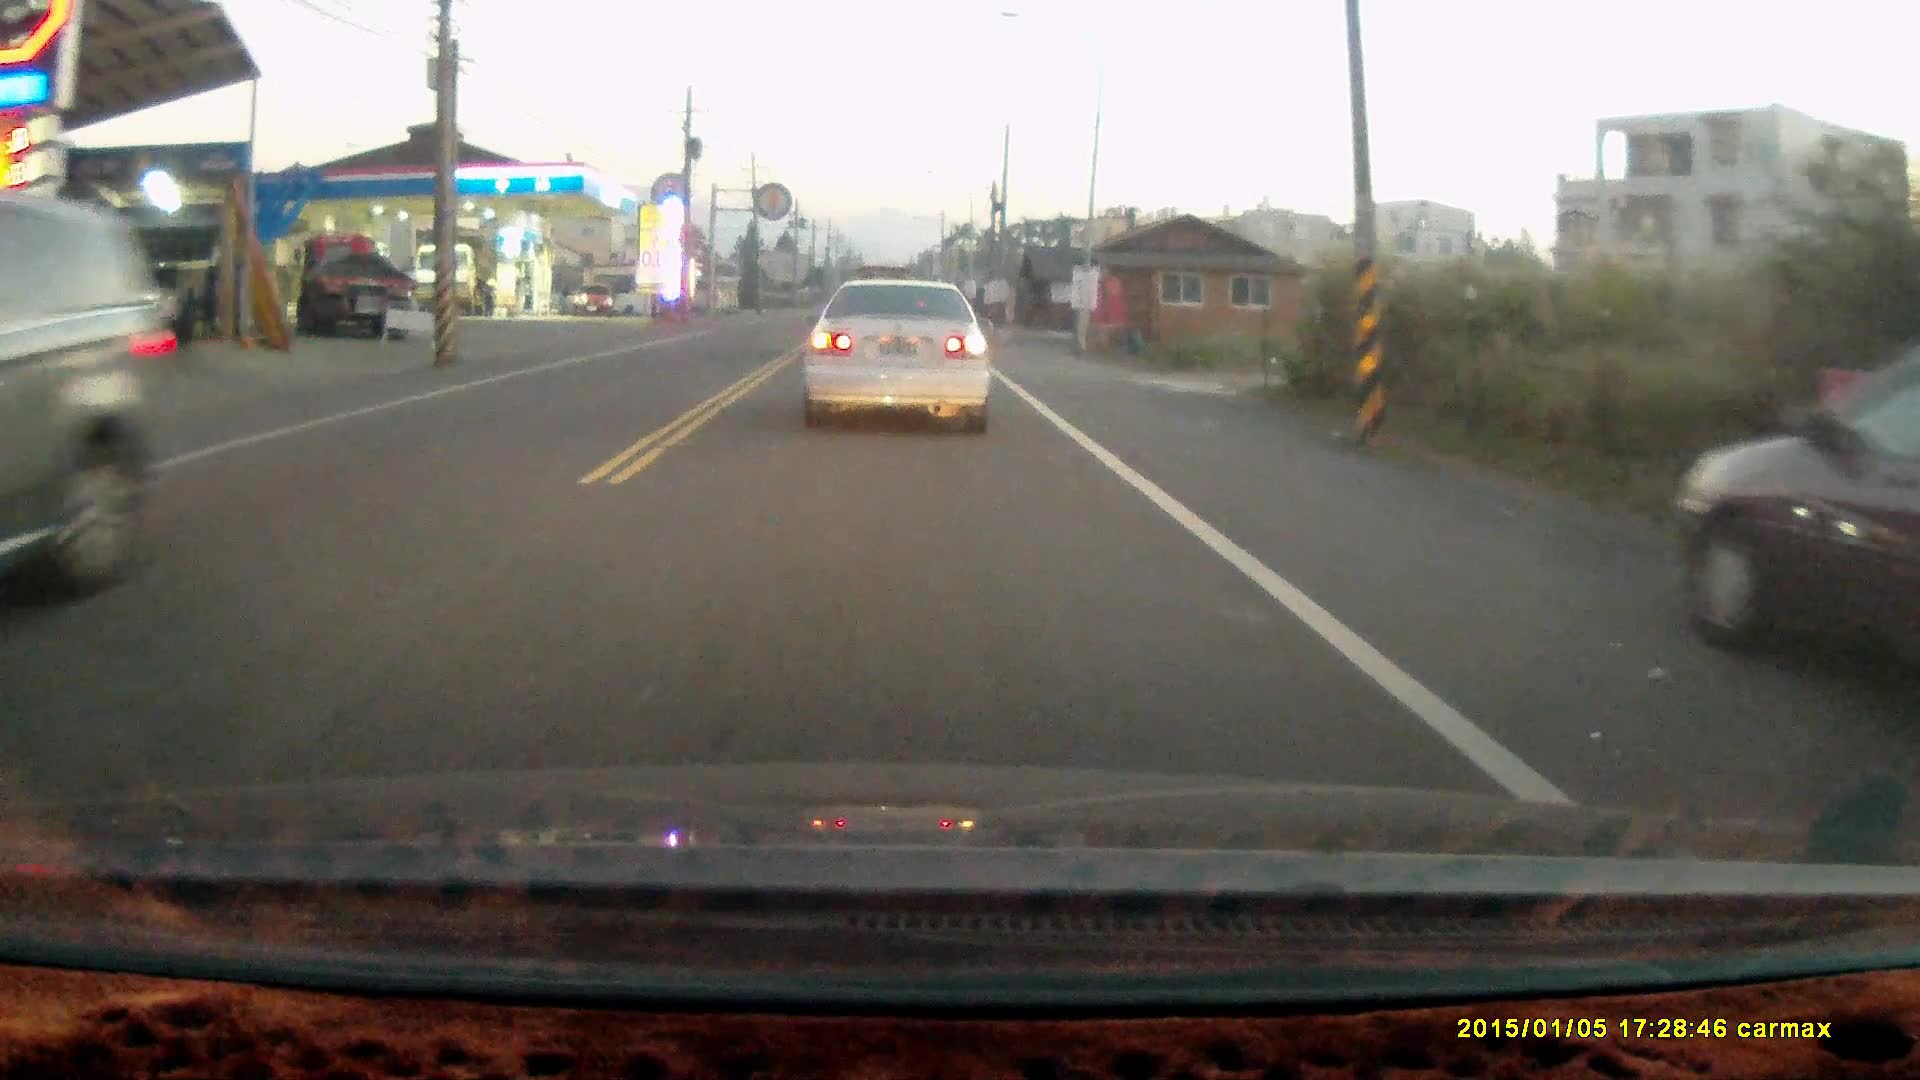pedestrian: (479, 269, 499, 313)
vehicle: (1677, 372, 1920, 728), (1, 205, 167, 618), (795, 284, 995, 444), (293, 237, 418, 346), (405, 236, 492, 321), (574, 285, 617, 319)
